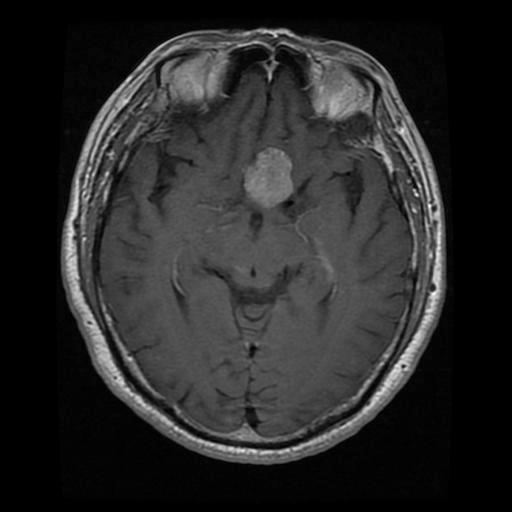Tumour-Pituitary: (240, 147, 297, 208)
